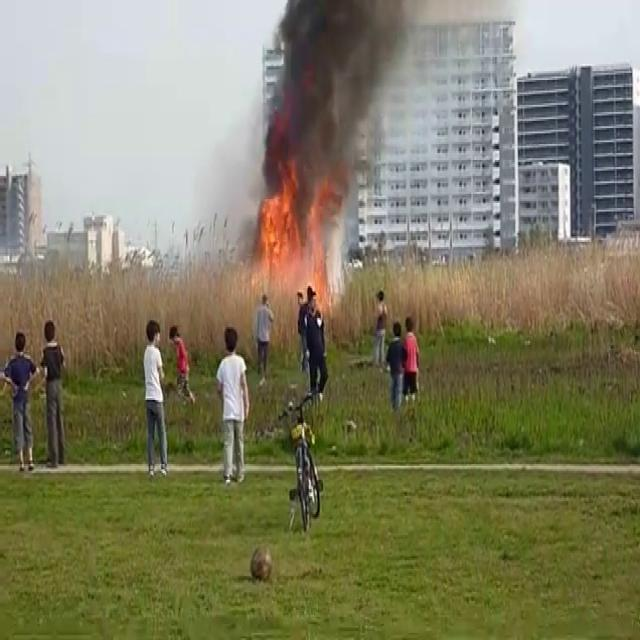Fire: (243, 161, 330, 303)
Smoke: (248, 0, 420, 219)
